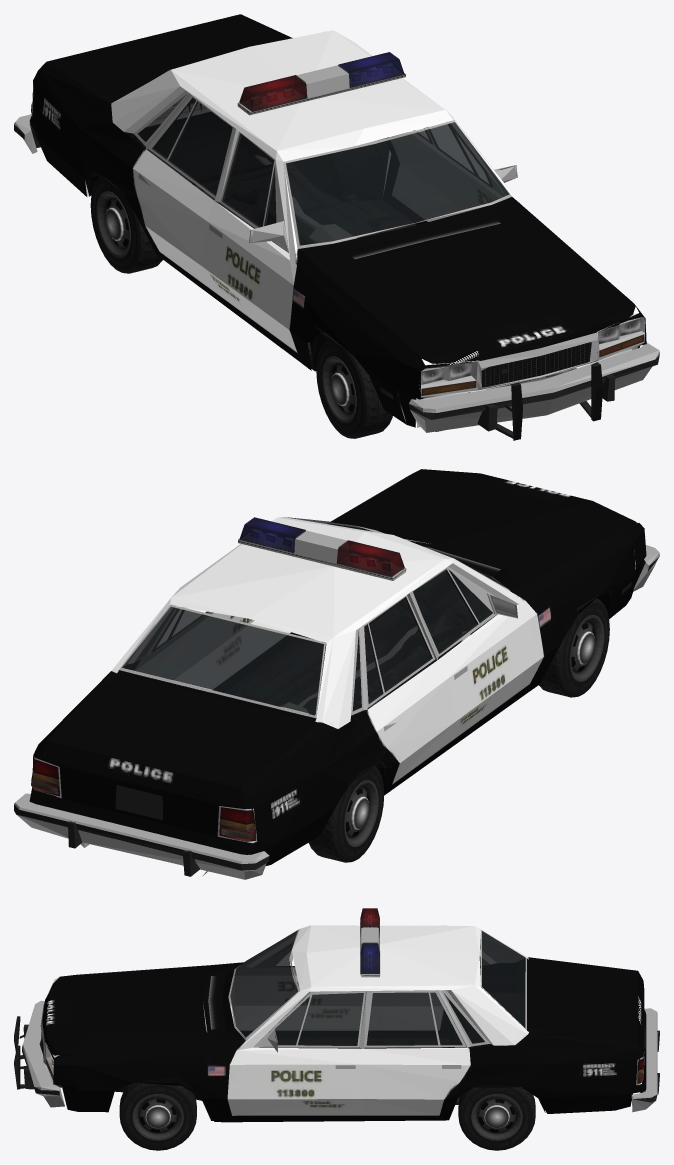
The model's file is police.glb.
The picture shows the model from 3 angles, top to bottom: view 1: azimuth 30°, elevation 25°; view 2: azimuth 150°, elevation 25°; view 3: azimuth 270°, elevation 25°; orthographic projection. The views are drawn at different scales.
Visible parts, largest first — view 1: body, wheel_fr, wheel_rr; view 2: body, wheel_rr, wheel_fr; view 3: body, wheel_fl, wheel_rl.
Part boxes in pixels (x1,y1,x2,y2): body: (14,14,659,440); wheel_fr: (316,340,392,438); wheel_rr: (90,177,162,273); body: (14,469,659,879); wheel_rr: (309,766,384,862); wheel_fr: (539,598,609,697); body: (14,908,659,1122); wheel_fl: (119,1082,196,1150); wheel_rl: (458,1087,535,1150).
Size of the model in its own units: 1.77 by 1.44 by 4.9.
Materials: 5 (5 with a texture image).
